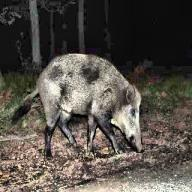boar: (10, 52, 145, 158)
